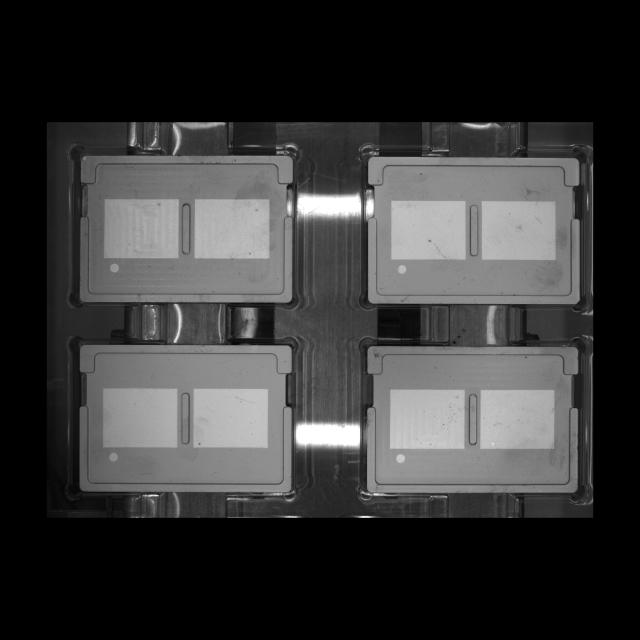product: (357, 336, 592, 505), (356, 142, 590, 311), (65, 333, 299, 501), (68, 144, 303, 310)
